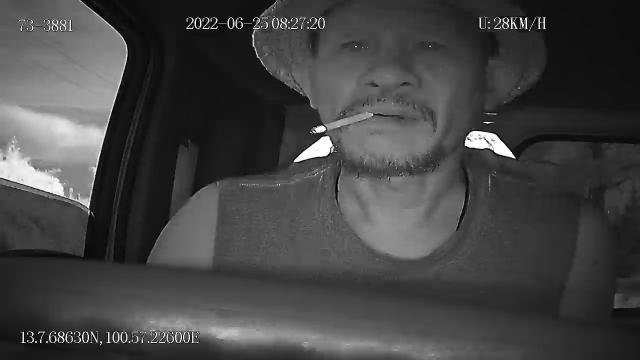SafeDriving: (330, 26, 380, 60)
Smoking: (311, 111, 373, 135)
